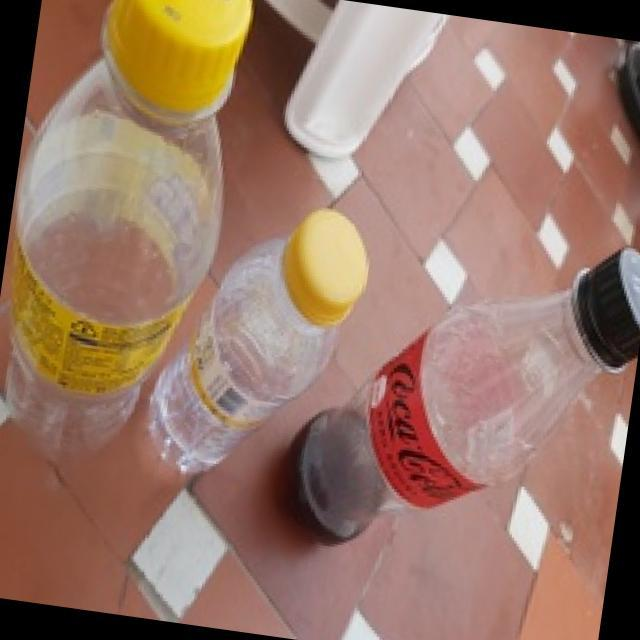good: (279, 167, 640, 601), (1, 2, 249, 490), (132, 187, 383, 522)
